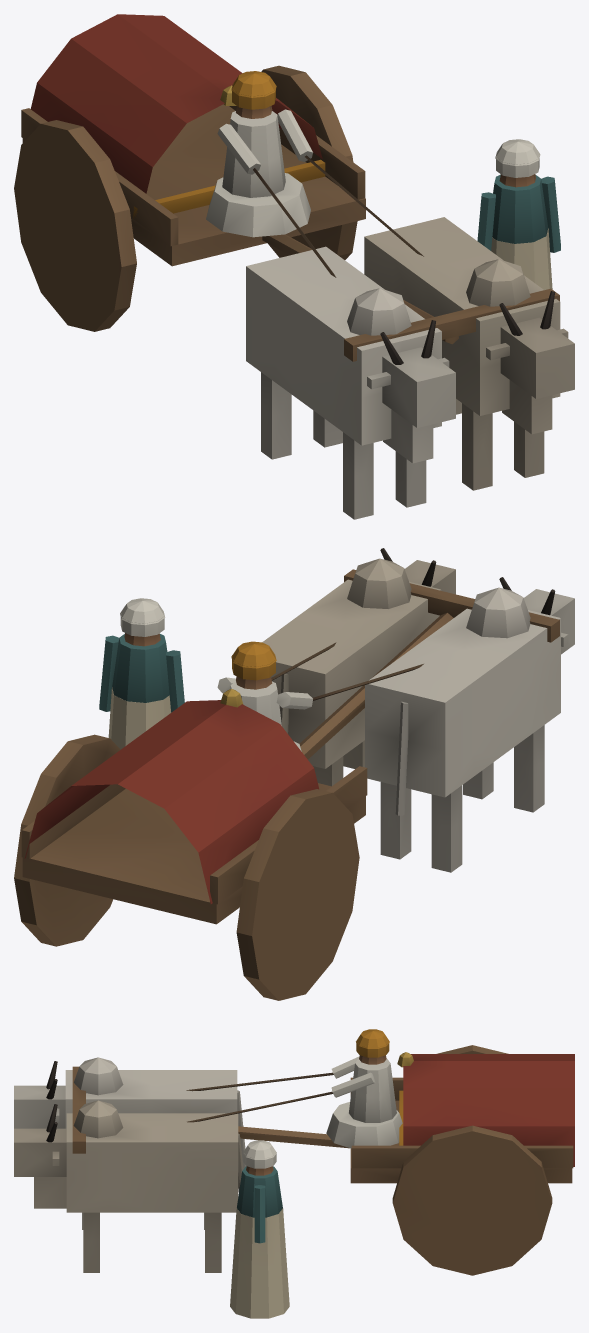
The model's file is cart.glb.
3 views of the same model, one above another, from view 1: azimuth 30°, elevation 25°; view 2: azimuth 150°, elevation 25°; view 3: azimuth 270°, elevation 25° (orthographic). The views are drawn at different scales.
Visible parts, largest first — view 1: base; view 2: base; view 3: base.
Part boxes in pixels (x1,y1,x2,y2): base: (14, 14, 574, 519); base: (14, 548, 574, 1000); base: (14, 1029, 574, 1318).
Bounding box in the file's own units: 2.7 × 2.07 × 5.07.
